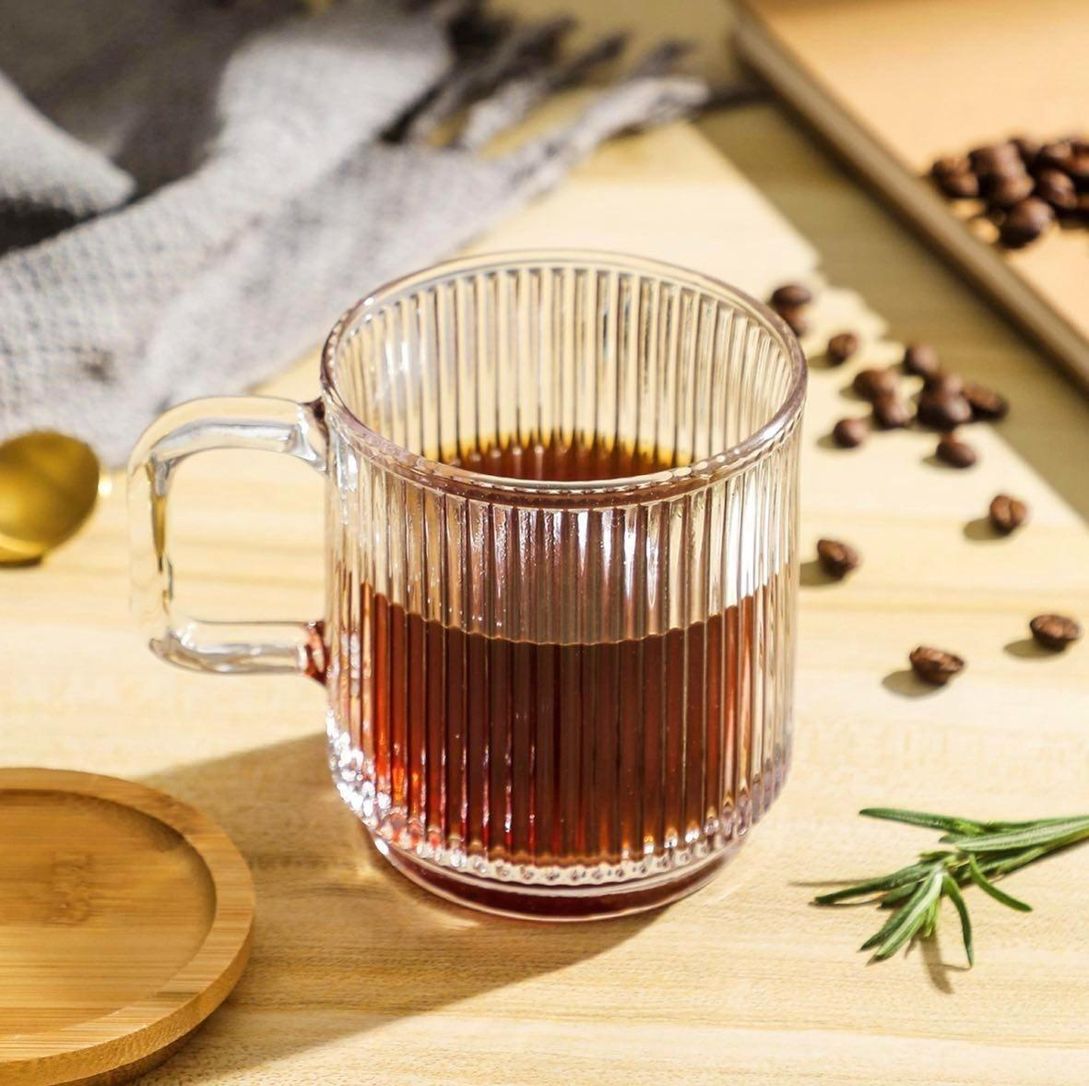glass-mug: (108, 230, 814, 938)
